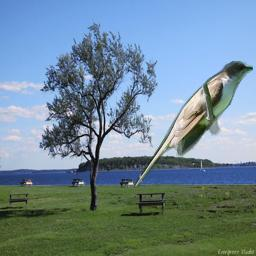Cuckoo: (133, 61, 253, 189)
